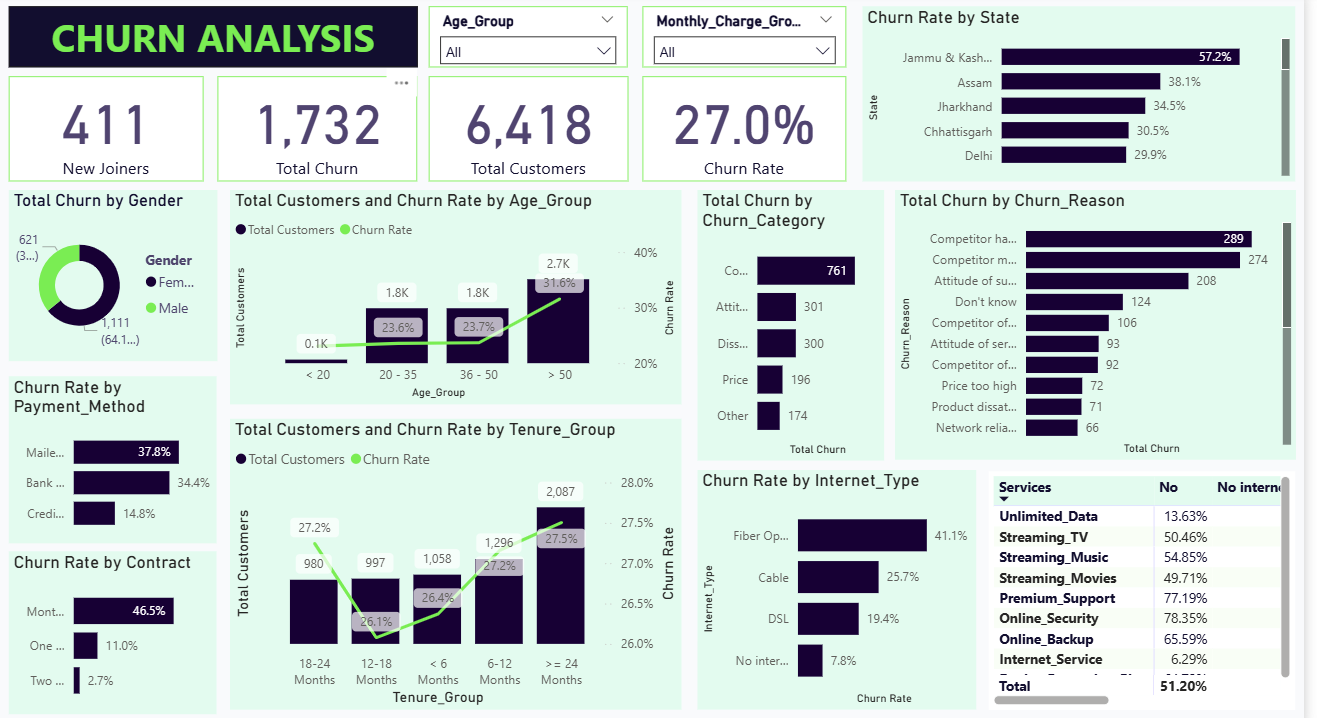

What the dashboard file says about the page in this screenshot:
{"tool":"powerbi","page":{"name":"Summary","canvas":[1280,720],"ordinal":0},"visuals":[{"type":"card","fields":{"Values":["Measure_tbl.New Joiners"]},"box":[8.6,79.8,191.4,103.1],"z":0},{"type":"card","fields":{"Values":["Measure_tbl.Total Churn"]},"box":[213.5,79.8,196.3,103.1],"z":1000},{"type":"card","fields":{"Values":["Measure_tbl.Total Customers"]},"box":[420.9,79.8,196.3,103.1],"z":2000},{"type":"card","fields":{"Values":["Measure_tbl.Churn Rate"]},"box":[630.7,79.8,200,103.1],"z":3000},{"type":"donutChart","fields":{"Category":["Cleaned_Customer_Data (1).Gender"],"Y":["Measure_tbl.Total Churn"]},"box":[8.6,191.4,204.9,168.1],"z":4000},{"type":"lineStackedColumnComboChart","fields":{"Y2":["Measure_tbl.Churn Rate"],"Category":["AGEGROUPREF.Age_Group"],"Y":["Measure_tbl.Total Customers"]},"box":[225.7,191.4,442.9,210],"z":5000},{"type":"clusteredBarChart","fields":{"Y":["Measure_tbl.Churn Rate"],"Category":["Cleaned_Customer_Data (1).Payment_Method"]},"box":[8.6,374.3,204.3,164.3],"z":6000},{"type":"clusteredBarChart","fields":{"Y":["Measure_tbl.Churn Rate"],"Category":["Cleaned_Customer_Data (1).Contract"]},"box":[8.6,545.7,204.3,160],"z":7000},{"type":"lineStackedColumnComboChart","fields":{"Category":["TENUREGRPREF.Tenure_Group"],"Y2":["Measure_tbl.Churn Rate"],"Y":["Measure_tbl.Total Customers"]},"box":[225.7,415.7,442.9,285.7],"z":8000},{"type":"clusteredBarChart","fields":{"Y":["Measure_tbl.Churn Rate"],"Category":["Cleaned_Customer_Data (1).State"]},"box":[846.6,11,424.5,171.8],"z":9000},{"type":"clusteredBarChart","fields":{"Category":["Cleaned_Customer_Data (1).Internet_Type"],"Y":["Measure_tbl.Churn Rate"]},"box":[684.7,466.3,273.6,235.6],"z":10000},{"type":"clusteredBarChart","fields":{"Category":["Cleaned_Customer_Data (1).Churn_Category"],"Y":["Measure_tbl.Total Churn"]},"box":[684.3,191.4,182.9,265.7],"z":11000},{"type":"clusteredBarChart","fields":{"Y":["Measure_tbl.Total Churn"],"Category":["Cleaned_Customer_Data (1).Churn_Reason"]},"box":[878.5,191.4,393.9,265],"z":12000},{"type":"pivotTable","fields":{"Rows":["Prod_Services.Services"],"Values":["Sum(Prod_Services.Churned_Status)"],"Columns":["Prod_Services.Value"]},"box":[970.6,467.5,300.6,234.4],"z":13000},{"type":"slicer","fields":{"Values":["Prod_Services.Monthly_Charge_Group"]},"box":[630.7,11,200,60.1],"z":14000},{"type":"slicer","fields":{"Values":["AGEGROUPREF.Age_Group"]},"box":[420.9,11,195.1,60.1],"z":15000},{"type":"textbox","box":[8.6,11,401.2,60.1],"z":16000}]}

Visuals, with their boxes on the page's 1280x720 design canvas (x1, y1, x2, y2). These are canvas units, not pixel positions in the 1317x718 screenshot, which may show the page scaled, cropped or inside an application window:
card - Measure_tbl.New Joiners: locate(9, 80, 200, 183)
card - Measure_tbl.Total Churn: locate(214, 80, 410, 183)
card - Measure_tbl.Total Customers: locate(421, 80, 617, 183)
card - Measure_tbl.Churn Rate: locate(631, 80, 831, 183)
donutChart - Cleaned_Customer_Data (1).Gender x Measure_tbl.Total Churn: locate(9, 191, 214, 360)
lineStackedColumnComboChart - Measure_tbl.Churn Rate x AGEGROUPREF.Age_Group: locate(226, 191, 669, 401)
clusteredBarChart - Measure_tbl.Churn Rate x Cleaned_Customer_Data (1).Payment_Method: locate(9, 374, 213, 539)
clusteredBarChart - Measure_tbl.Churn Rate x Cleaned_Customer_Data (1).Contract: locate(9, 546, 213, 706)
lineStackedColumnComboChart - TENUREGRPREF.Tenure_Group x Measure_tbl.Churn Rate: locate(226, 416, 669, 701)
clusteredBarChart - Measure_tbl.Churn Rate x Cleaned_Customer_Data (1).State: locate(847, 11, 1271, 183)
clusteredBarChart - Cleaned_Customer_Data (1).Internet_Type x Measure_tbl.Churn Rate: locate(685, 466, 958, 702)
clusteredBarChart - Cleaned_Customer_Data (1).Churn_Category x Measure_tbl.Total Churn: locate(684, 191, 867, 457)
clusteredBarChart - Measure_tbl.Total Churn x Cleaned_Customer_Data (1).Churn_Reason: locate(878, 191, 1272, 456)
pivotTable - Prod_Services.Services x Sum(Prod_Services.Churned_Status): locate(971, 468, 1271, 702)
slicer - Prod_Services.Monthly_Charge_Group: locate(631, 11, 831, 71)
slicer - AGEGROUPREF.Age_Group: locate(421, 11, 616, 71)
textbox: locate(9, 11, 410, 71)
